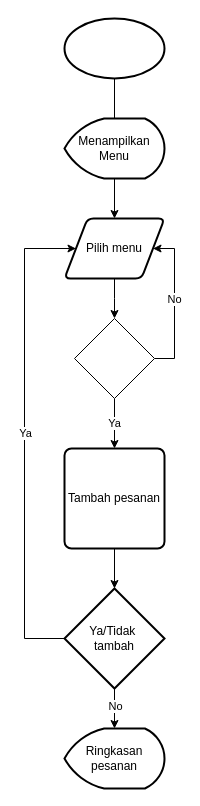
This 200x806 diagram has some shape labels left out. Each missing label, with the centre of its shape:
Kode Valid?: point 114,358
Start: point 114,48
